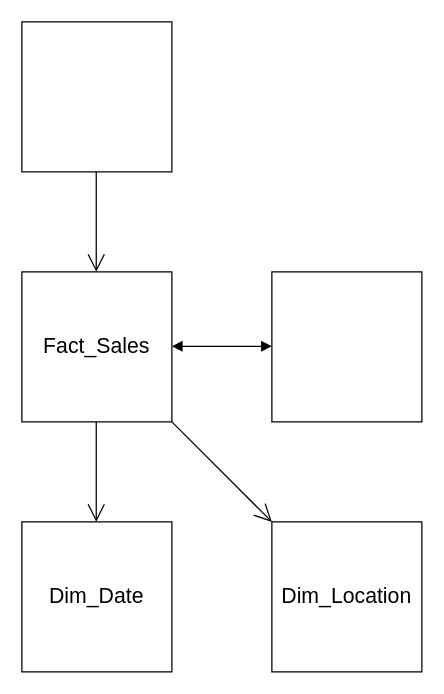
Image size: 444x694. Some labels were removed from this diagram. The shapes that lost their labels are listed below. From the top down, each one's centre as x and y in pixels, then its label:
At [96,96]: "Dim_Customer".
At [346,346]: "Dim_Product".
